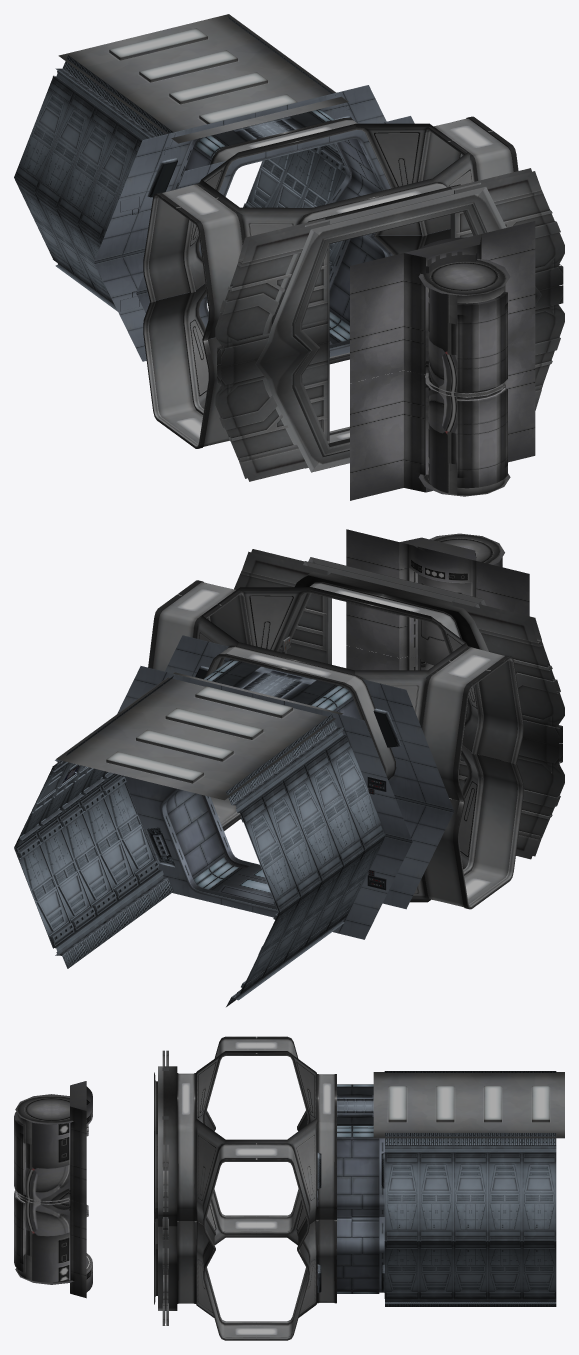
Rendered from env_emp_gozanti_freighter_int_01_pre.glb.
3 renders of one model, top to bottom at view 1: azimuth 30°, elevation 25°; view 2: azimuth 150°, elevation 25°; view 3: azimuth 270°, elevation 25°, orthographic. The views are drawn at different scales.
Visible parts, largest first — view 1: emp_gf_wall_arch_04a_mesh (×2), emp_gf_arch_pillar_03a_mesh, emp_gf_wall_01a_mesh (×3), emp_gf_ceiling_01_mesh (2), emp_gf_arch_pillar_03a_mesh (1), emp_gf_wall_arch_02a_mesh, emp_gf_arch_pillar_03b_mesh, emp_gf_arch_pillar_03b_mesh (1), emp_gf_wall_arch_02a_mesh (1), emp_gf_arch_pillar_03c_mesh, emp_gf_arch_pillar_03c_mesh (1); view 2: emp_gf_wall_01a_mesh (×4), emp_gf_arch_pillar_03a_mesh, emp_gf_ceiling_01_mesh (2), emp_gf_wall_arch_02a_mesh (1), emp_gf_wall_arch_02a_mesh, emp_gf_wall_arch_04a_mesh (×2), emp_gf_arch_pillar_03a_mesh (1), emp_gf_arch_pillar_03b_mesh, emp_gf_arch_pillar_03c_mesh, emp_gf_arch_pillar_03b_mesh (1), emp_gf_wall_arch_04b_mesh; view 3: emp_gf_wall_01a_mesh (×2), emp_gf_arch_pillar_03a_mesh, emp_gf_wall_arch_04a_mesh (×2), emp_gf_ceiling_01_mesh (2), emp_gf_arch_pillar_03a_mesh (1), emp_gf_wall_arch_02a_mesh, emp_gf_wall_arch_02a_mesh (1), emp_gf_arch_pillar_03c_mesh, emp_gf_arch_pillar_03c_mesh (1).
Part boxes in pixels (x1,y1,x2,y2): emp_gf_wall_arch_04a_mesh (×2): [350, 221, 535, 500]; emp_gf_arch_pillar_03a_mesh: [143, 116, 541, 364]; emp_gf_wall_01a_mesh (×3): [14, 55, 345, 311]; emp_gf_ceiling_01_mesh (2): [58, 14, 348, 143]; emp_gf_arch_pillar_03a_mesh (1): [143, 229, 541, 472]; emp_gf_wall_arch_02a_mesh: [94, 85, 414, 293]; emp_gf_arch_pillar_03b_mesh: [215, 218, 329, 367]; emp_gf_arch_pillar_03b_mesh (1): [215, 341, 329, 481]; emp_gf_wall_arch_02a_mesh (1): [94, 229, 449, 361]; emp_gf_arch_pillar_03c_mesh: [450, 168, 564, 290]; emp_gf_arch_pillar_03c_mesh (1): [535, 285, 564, 410]; emp_gf_wall_01a_mesh (×4): [14, 676, 385, 1006]; emp_gf_arch_pillar_03a_mesh: [148, 557, 523, 801]; emp_gf_ceiling_01_mesh (2): [56, 672, 343, 800]; emp_gf_wall_arch_02a_mesh (1): [123, 775, 454, 939]; emp_gf_wall_arch_02a_mesh: [117, 635, 453, 841]; emp_gf_wall_arch_04a_mesh (×2): [346, 529, 529, 670]; emp_gf_arch_pillar_03a_mesh (1): [210, 745, 523, 909]; emp_gf_arch_pillar_03b_mesh: [452, 599, 564, 746]; emp_gf_arch_pillar_03c_mesh: [234, 549, 331, 664]; emp_gf_arch_pillar_03b_mesh (1): [452, 738, 564, 859]; emp_gf_wall_arch_04b_mesh: [417, 574, 471, 665]; emp_gf_wall_01a_mesh (×2): [384, 1133, 556, 1306]; emp_gf_arch_pillar_03a_mesh: [154, 1036, 336, 1249]; emp_gf_wall_arch_04a_mesh (×2): [14, 1081, 92, 1298]; emp_gf_ceiling_01_mesh (2): [373, 1072, 564, 1138]; emp_gf_arch_pillar_03a_mesh (1): [154, 1128, 336, 1340]; emp_gf_wall_arch_02a_mesh: [317, 1084, 384, 1217]; emp_gf_wall_arch_02a_mesh (1): [317, 1217, 384, 1293]; emp_gf_arch_pillar_03c_mesh: [162, 1116, 168, 1240]; emp_gf_arch_pillar_03c_mesh (1): [162, 1248, 168, 1325].
Size of the model in its own units: 14.12 by 9.45 by 24.31.
Materials: 9 (9 with a texture image).
